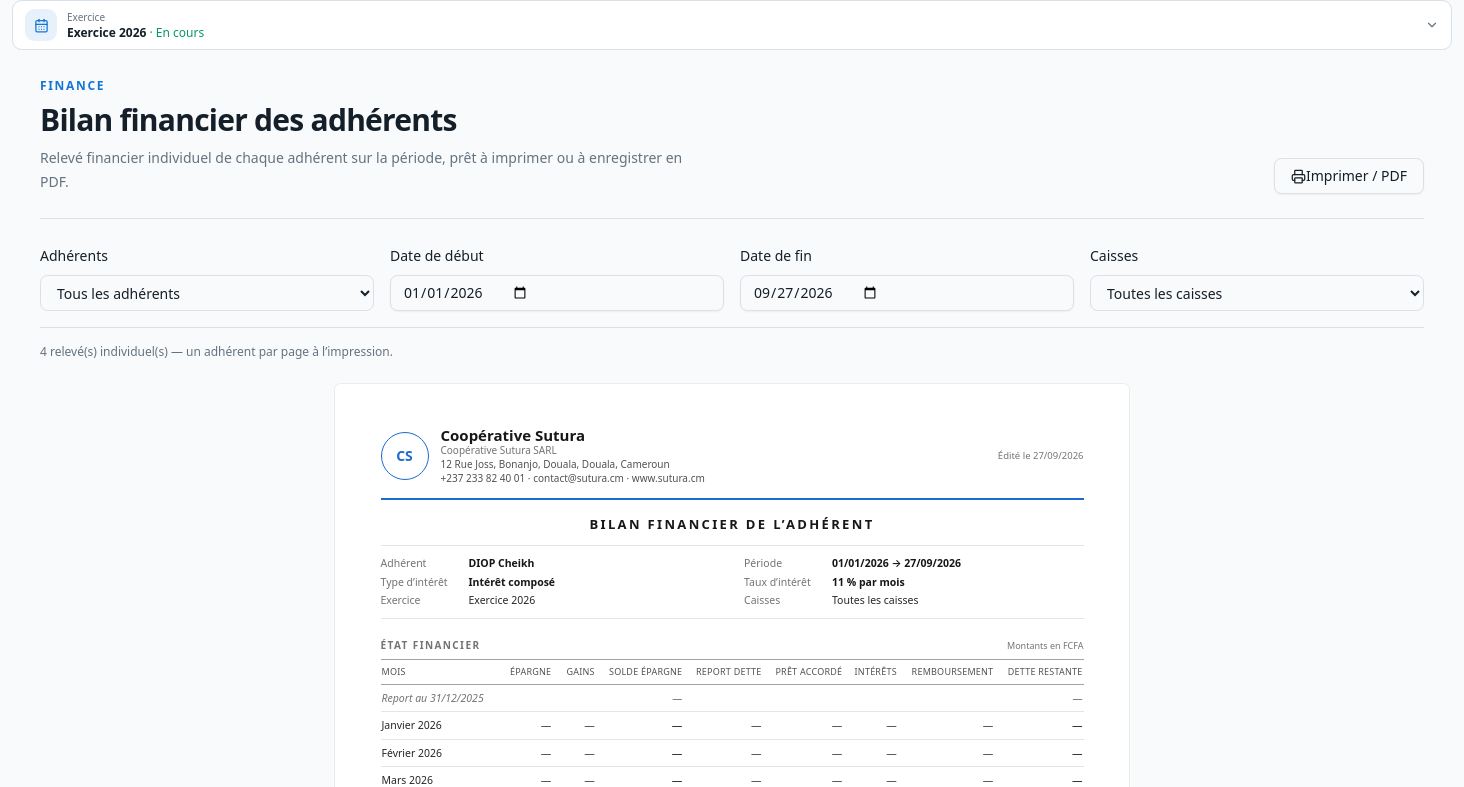
Bilan financier de l’adhérent — relevés › épargnant : gains redistribués tracés (caisse, prêt d’origine, répartition au prorata)
This screenshot has width=1464, height=787.
Expected: the date field labelled "Date de début" holds "2026-01-01", x1=390 y1=275 x2=724 y2=311
Expected: the date field labelled "Date de fin" holds "2026-09-27", x1=740 y1=275 x2=1074 y2=311
Select "Adhérents sélectionnés" in the dropdown labelled "Adhérents" at (207, 293), box x1=40 y1=275 x2=374 y2=311
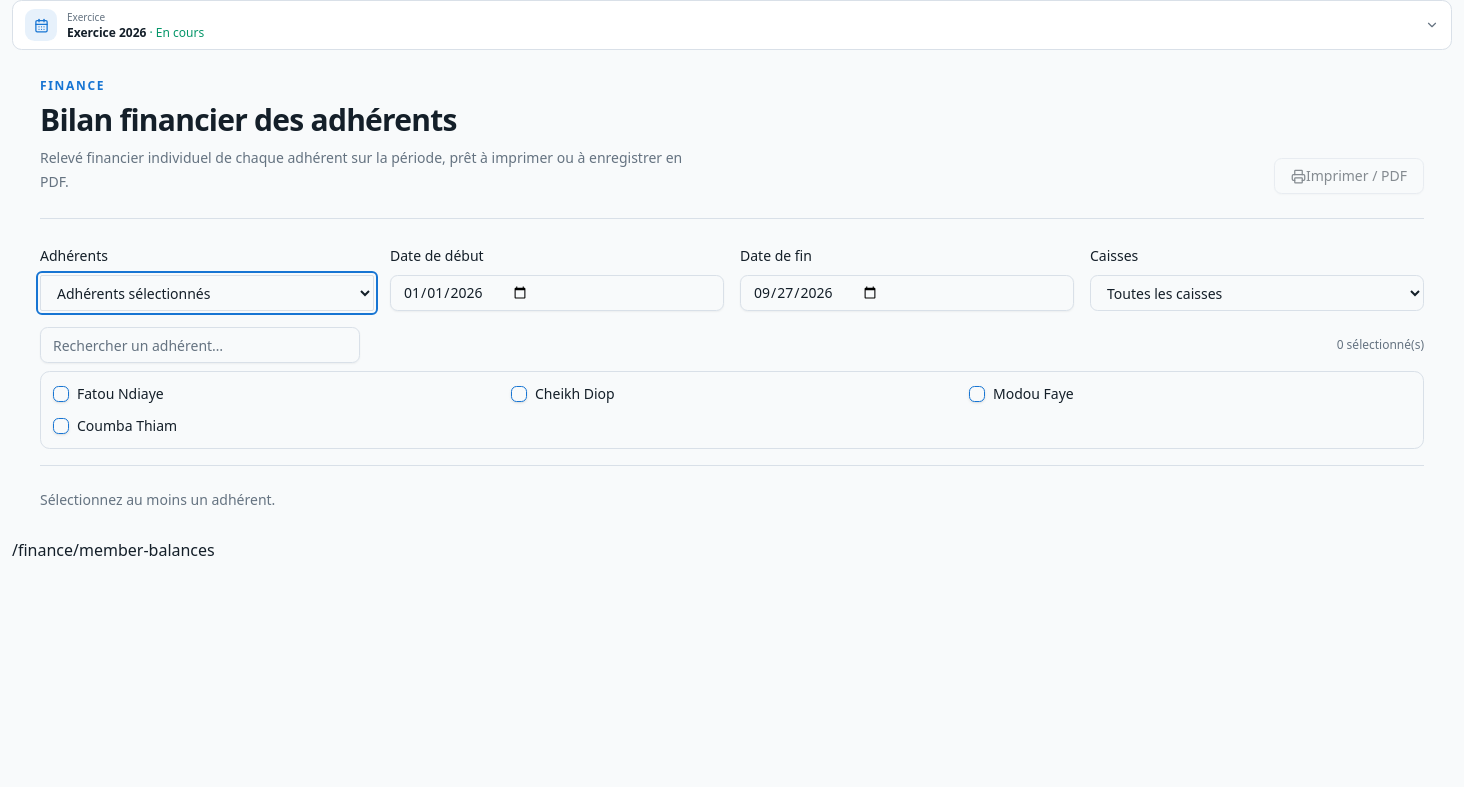
Click the checkbox named "Modou Faye" at (977, 394), box x1=969 y1=386 x2=985 y2=402
(page scrolled)
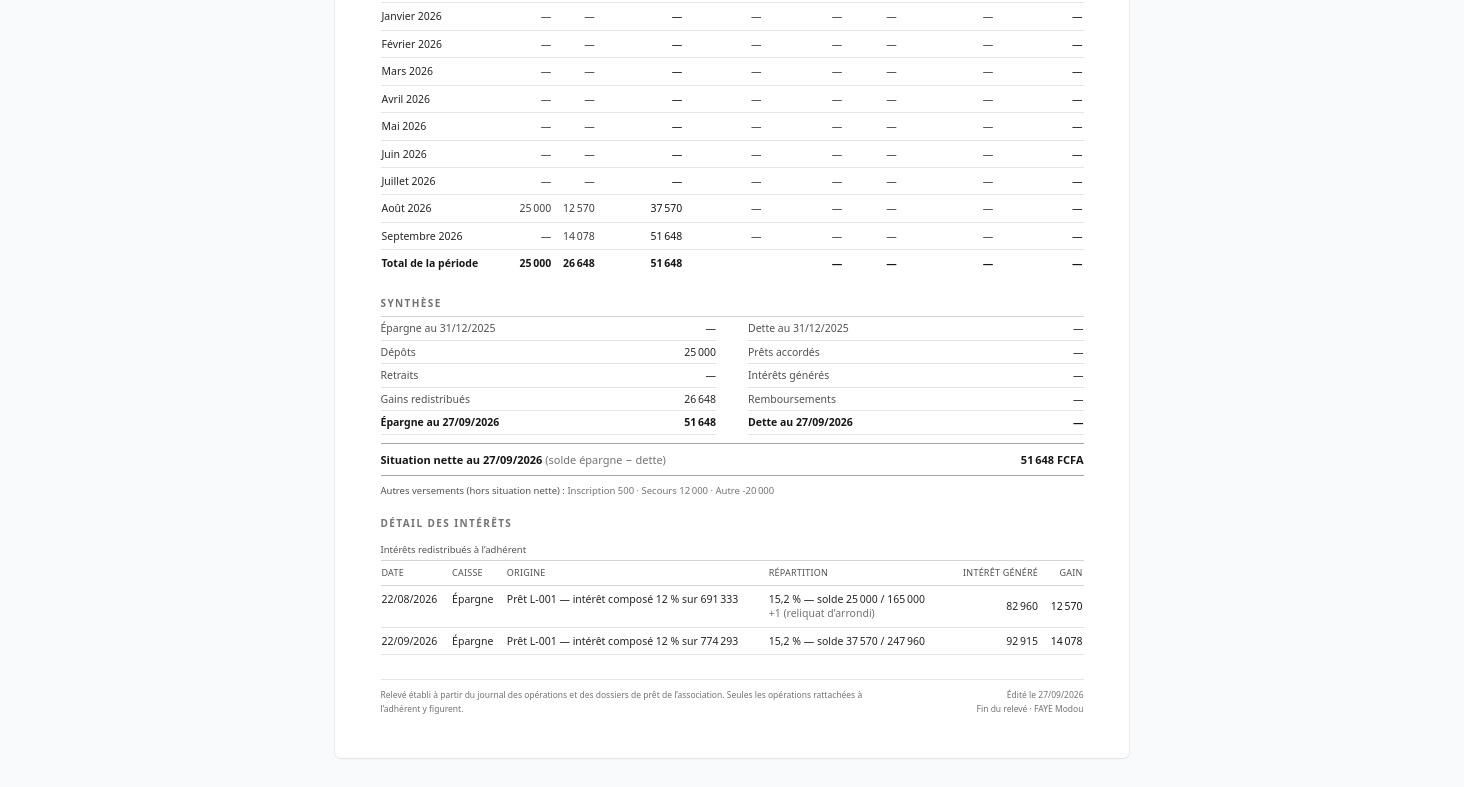
Expected: the table with test id "mb-gains" shows "% — solde", x1=769 y1=592 x2=925 y2=606
